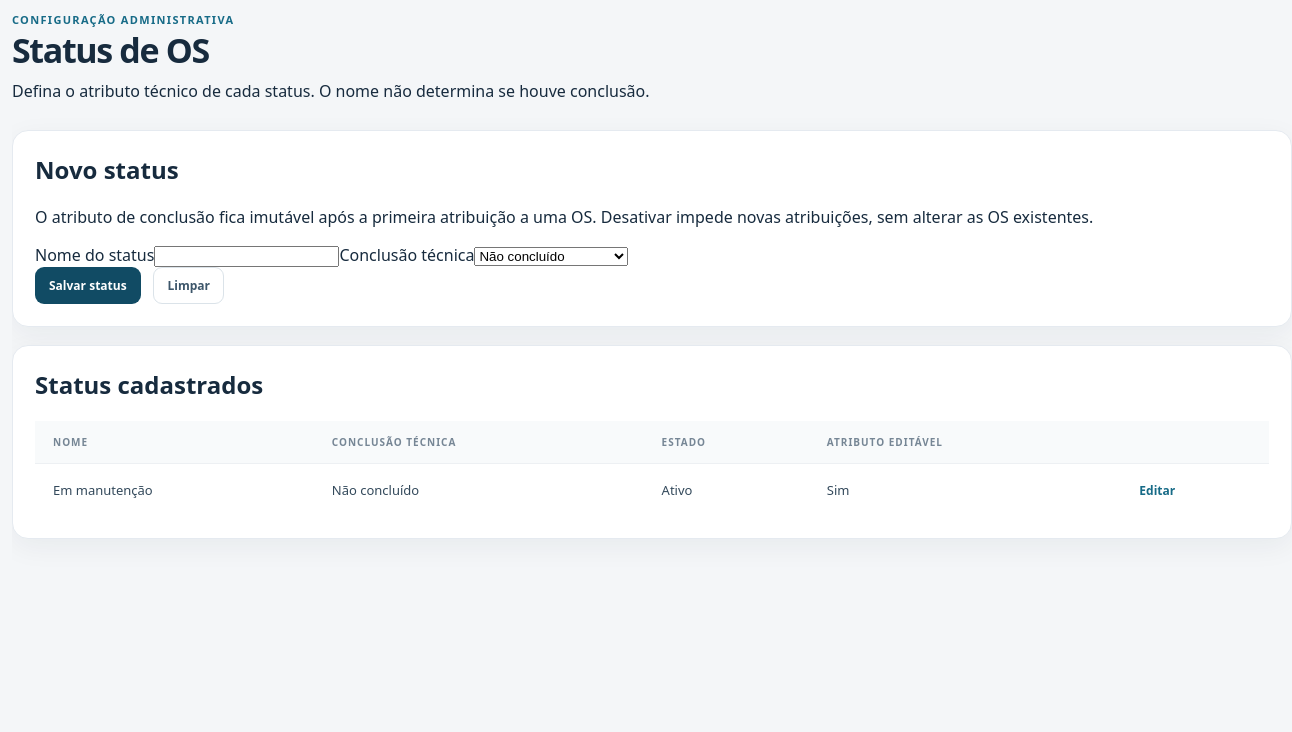
Test case: ServiceOrderStatusesPage › edita o atributo sem substituir a versão esperada
Click the button "Editar" at (1157, 490), box [1139,482,1175,499]
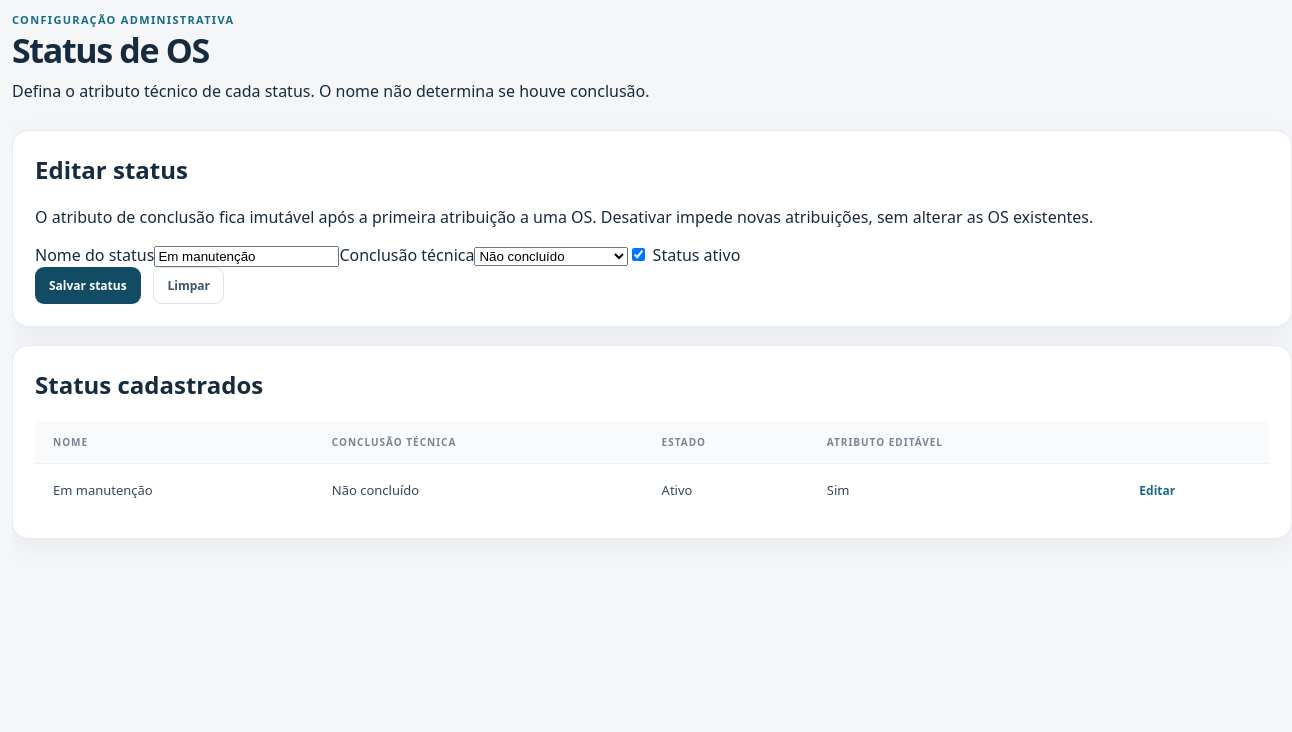
Select "Concluído sem reparo" in the dropdown labelled "Conclusão técnica" at (551, 256), box [474,247,628,266]
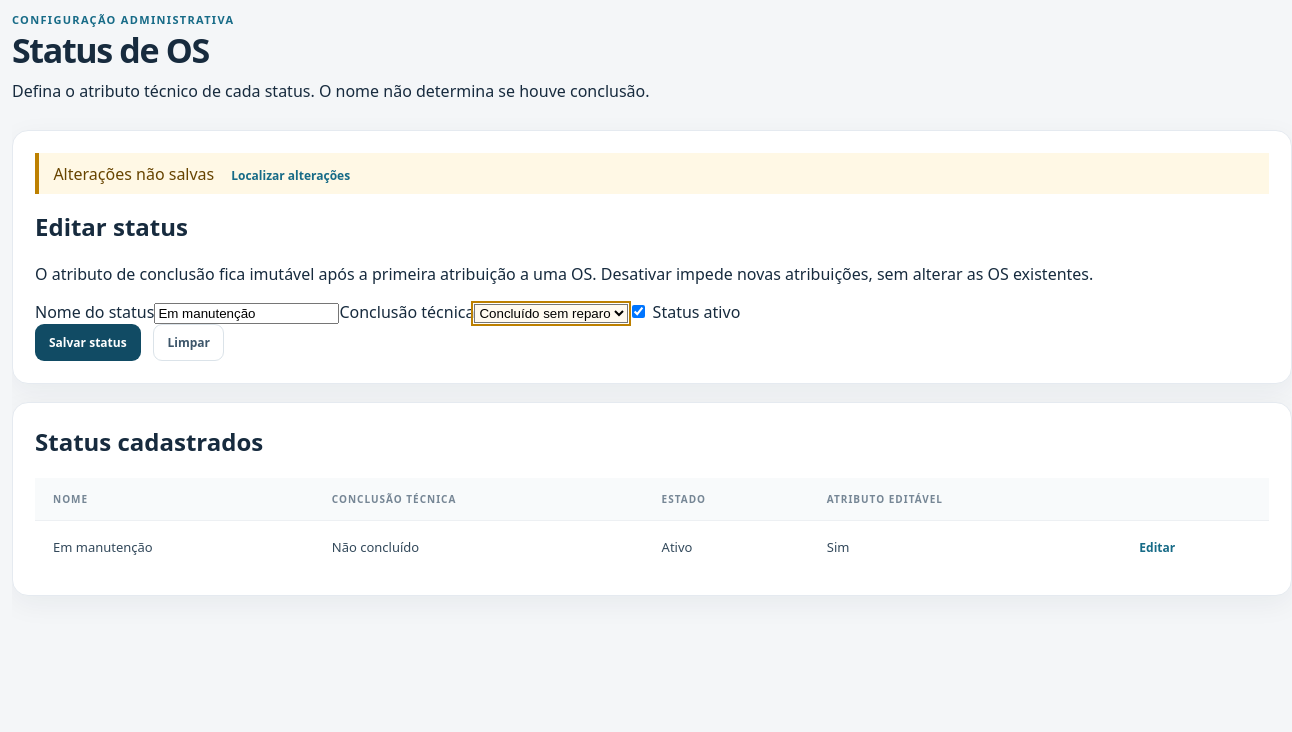
Click the button "Salvar status" at (88, 343), box [35,324,141,361]
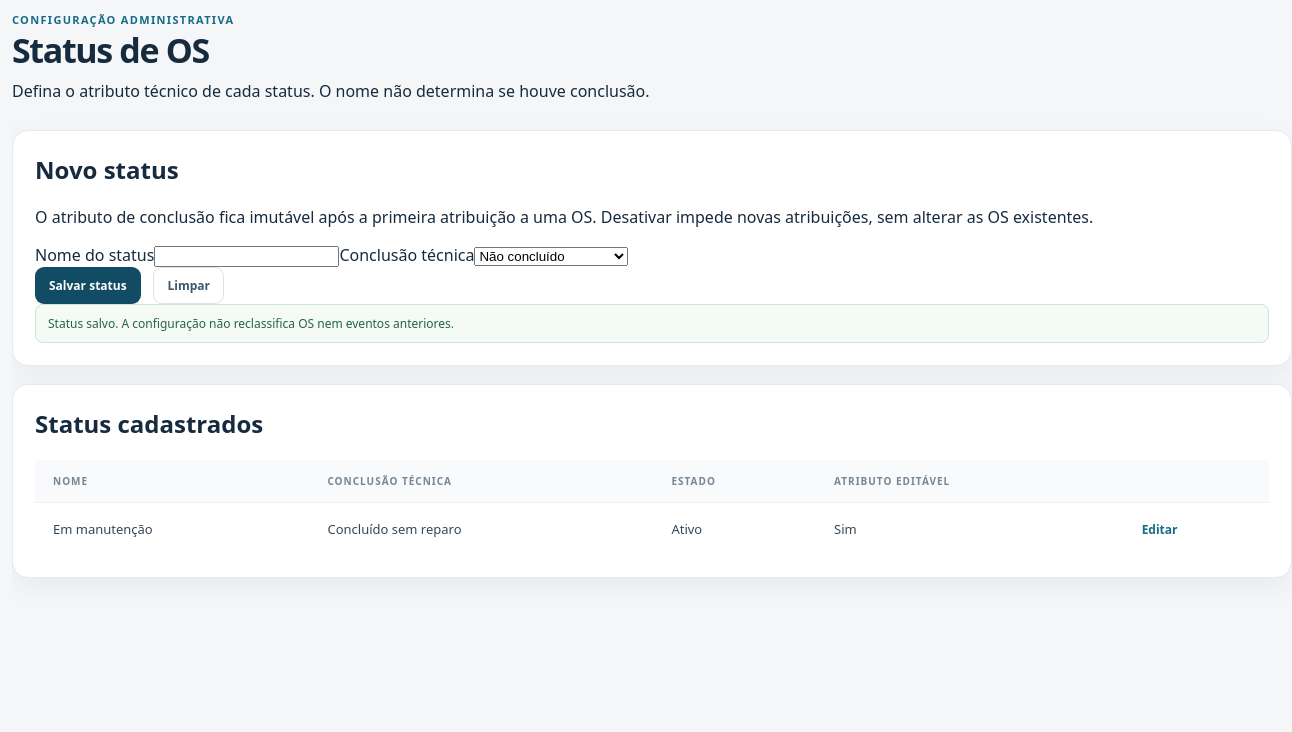
Now the text "Status salvo. A configuração não reclassifica OS nem eventos anteriores." is shown, box [35,304,1269,343]
